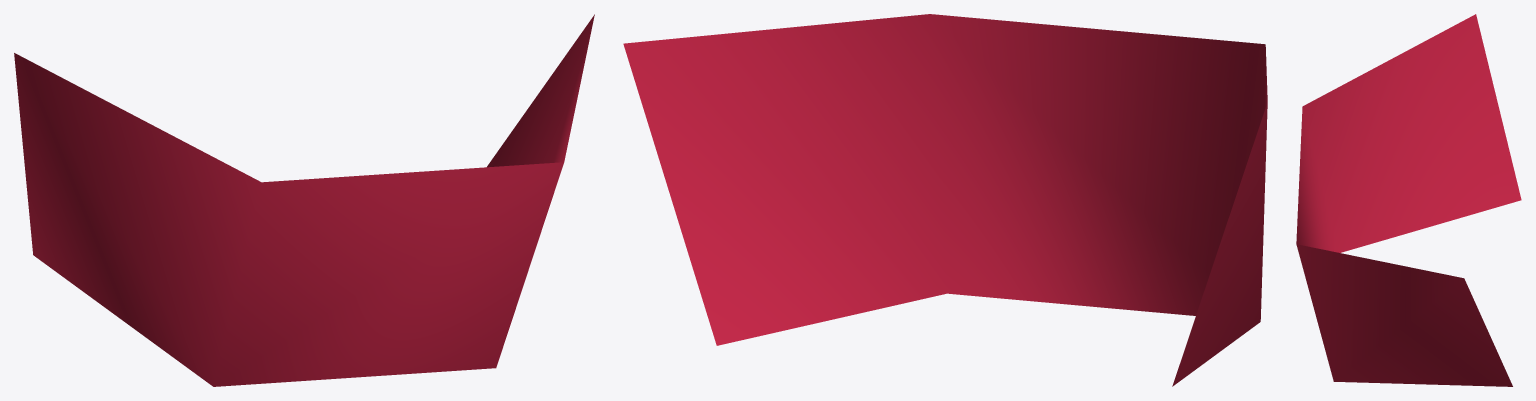
3 renders of one model, left to right at view 1: azimuth 30°, elevation 25°; view 2: azimuth 150°, elevation 25°; view 3: azimuth 270°, elevation 25°, orthographic. The views are drawn at different scales.
Parts seen in each view (by area): view 1: ef_401; view 2: ef_401; view 3: ef_401.
Part boxes in pixels (<box>): ef_401: <box>14,14,594,386</box>; ef_401: <box>623,14,1267,386</box>; ef_401: <box>1296,14,1521,386</box>.
Size of the model in its own units: 0.9531 by 0.5327 by 0.46.
Materials: 1 (1 with a texture image).
